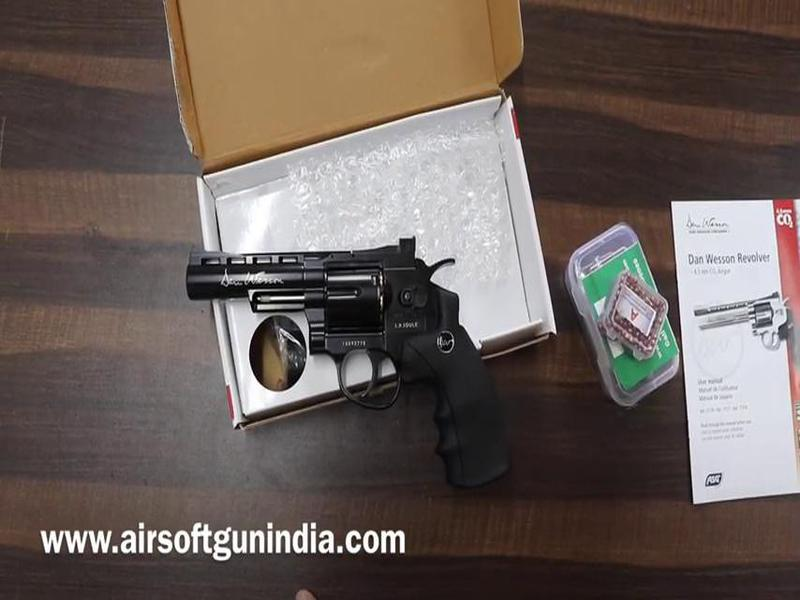Revolver: (177, 209, 524, 497)
